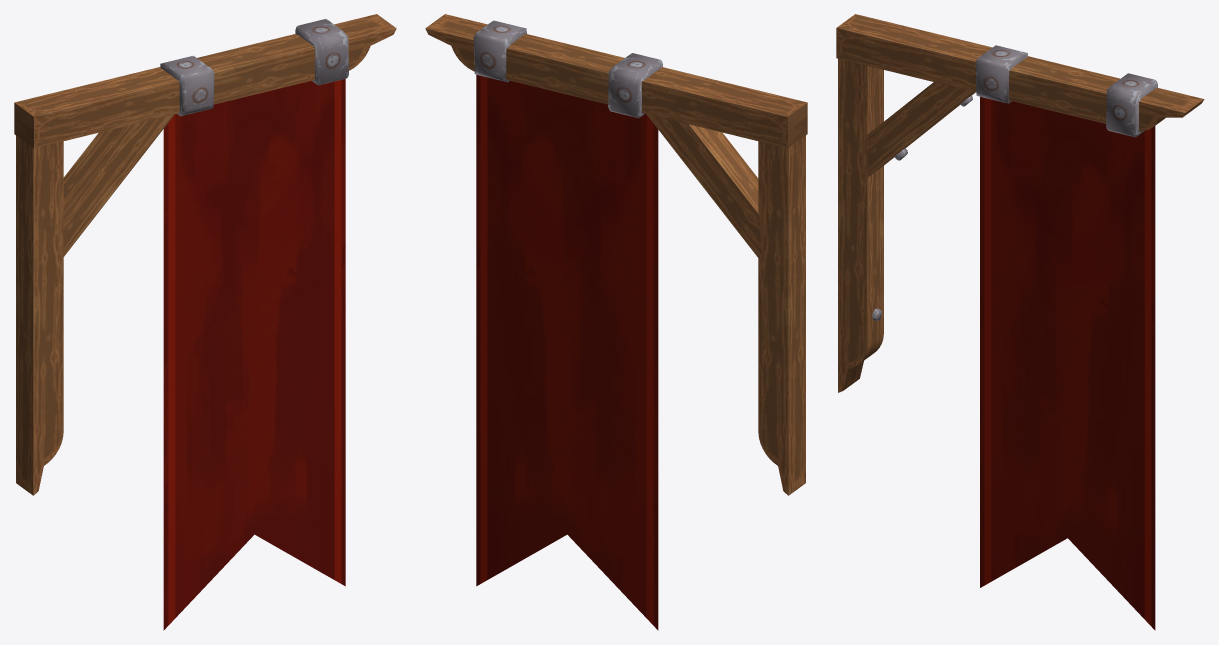
File: banner_1.gltf
3 views of the same model, side by side, from view 1: azimuth 30°, elevation 25°; view 2: azimuth 150°, elevation 25°; view 3: azimuth 330°, elevation 25° (orthographic). The views are drawn at different scales.
Visible parts, largest first — view 1: Banner_1; view 2: Banner_1; view 3: Banner_1.
Part boxes in pixels (<box>): Banner_1: <box>14,14,396,630</box>; Banner_1: <box>425,14,807,630</box>; Banner_1: <box>836,14,1204,630</box>.
Bounding box in the file's own units: 1.61 × 2.39 × 0.1906.
3 materials, 3 textured.
